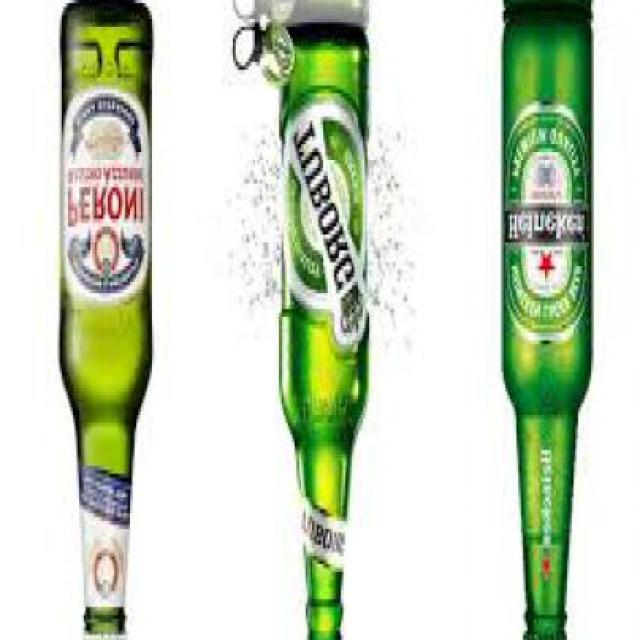kaca: (57, 0, 152, 639), (499, 0, 591, 640), (278, 27, 368, 640)
